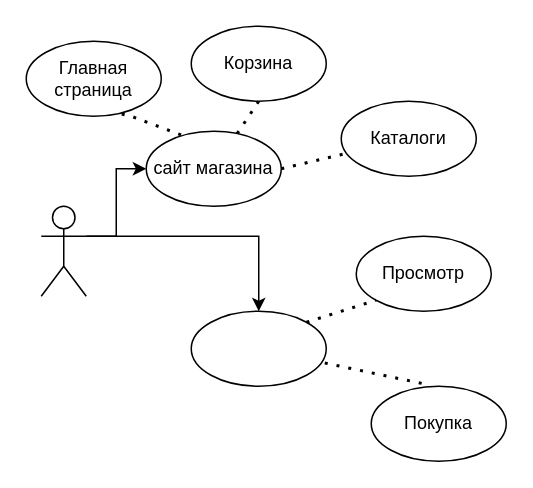
The diagram is 533 pixels wide and 488 high, and some of its shapes have lost their labels. The shapes that lost their labels are listed below. From the top down, each one's centre as x and y in pixels, then its label:
At (x=63, y=250): "Actor".
At (x=258, y=348): "Товары магазина".
